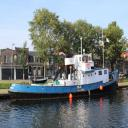tugboat: (8, 49, 121, 106)
